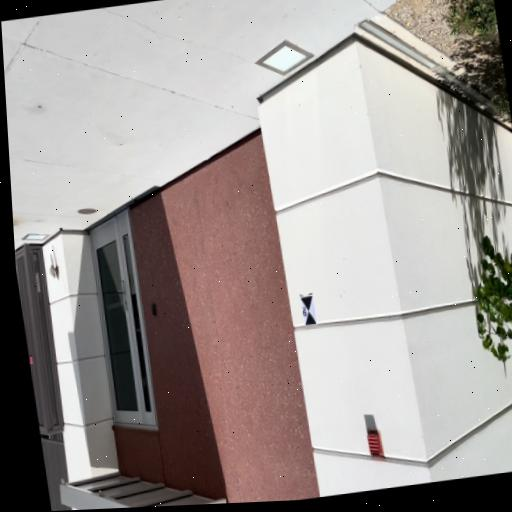target9: (300, 296, 317, 326)
